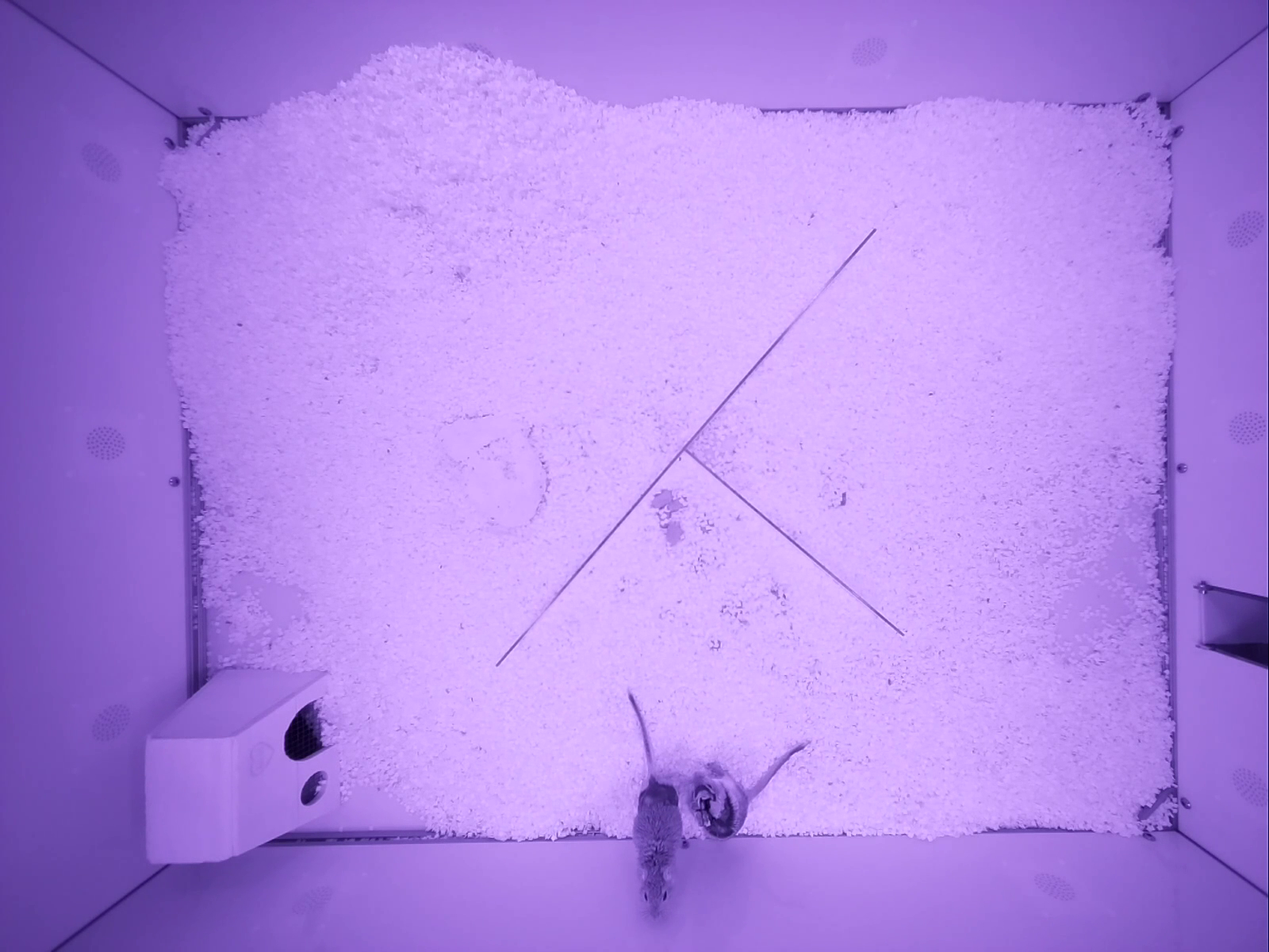adult_back: (628, 691, 681, 915), (693, 743, 805, 837)
